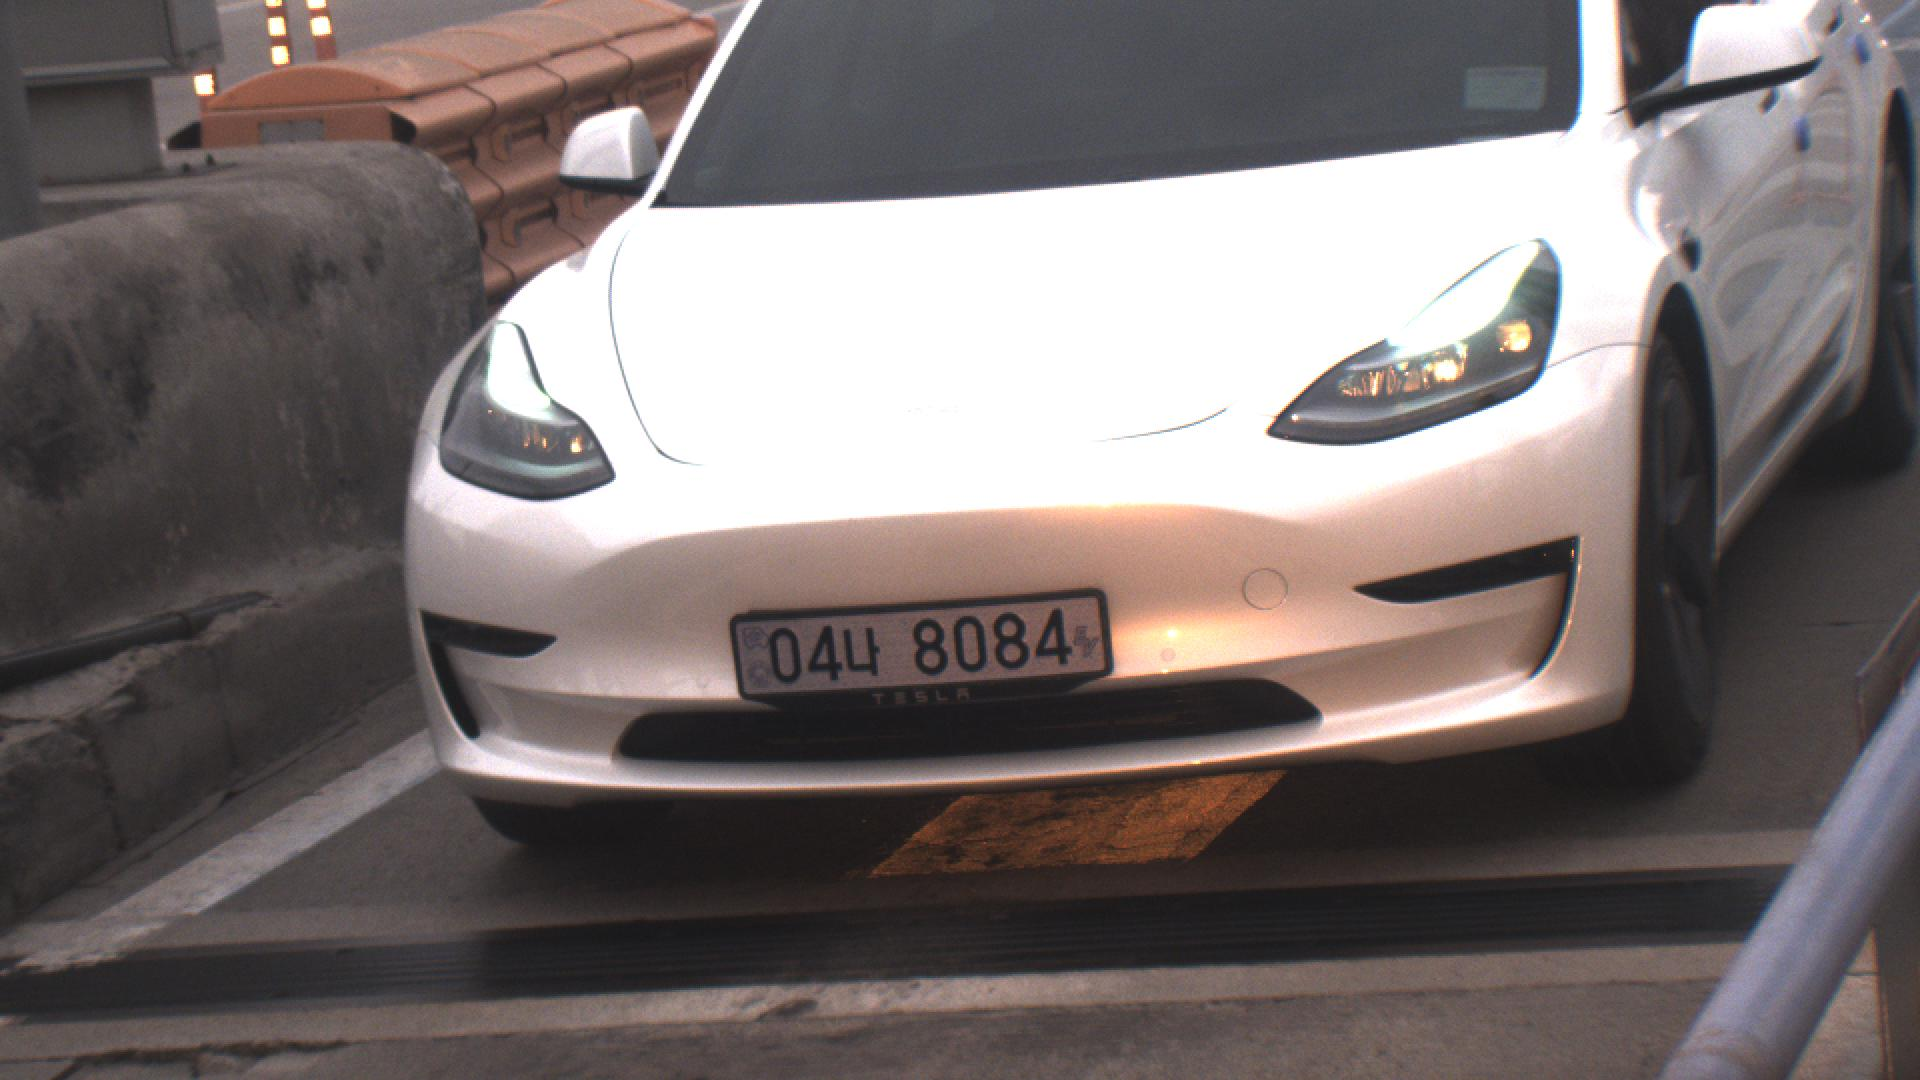car: (391, 3, 1920, 847)
plate: (717, 587, 1117, 699)
